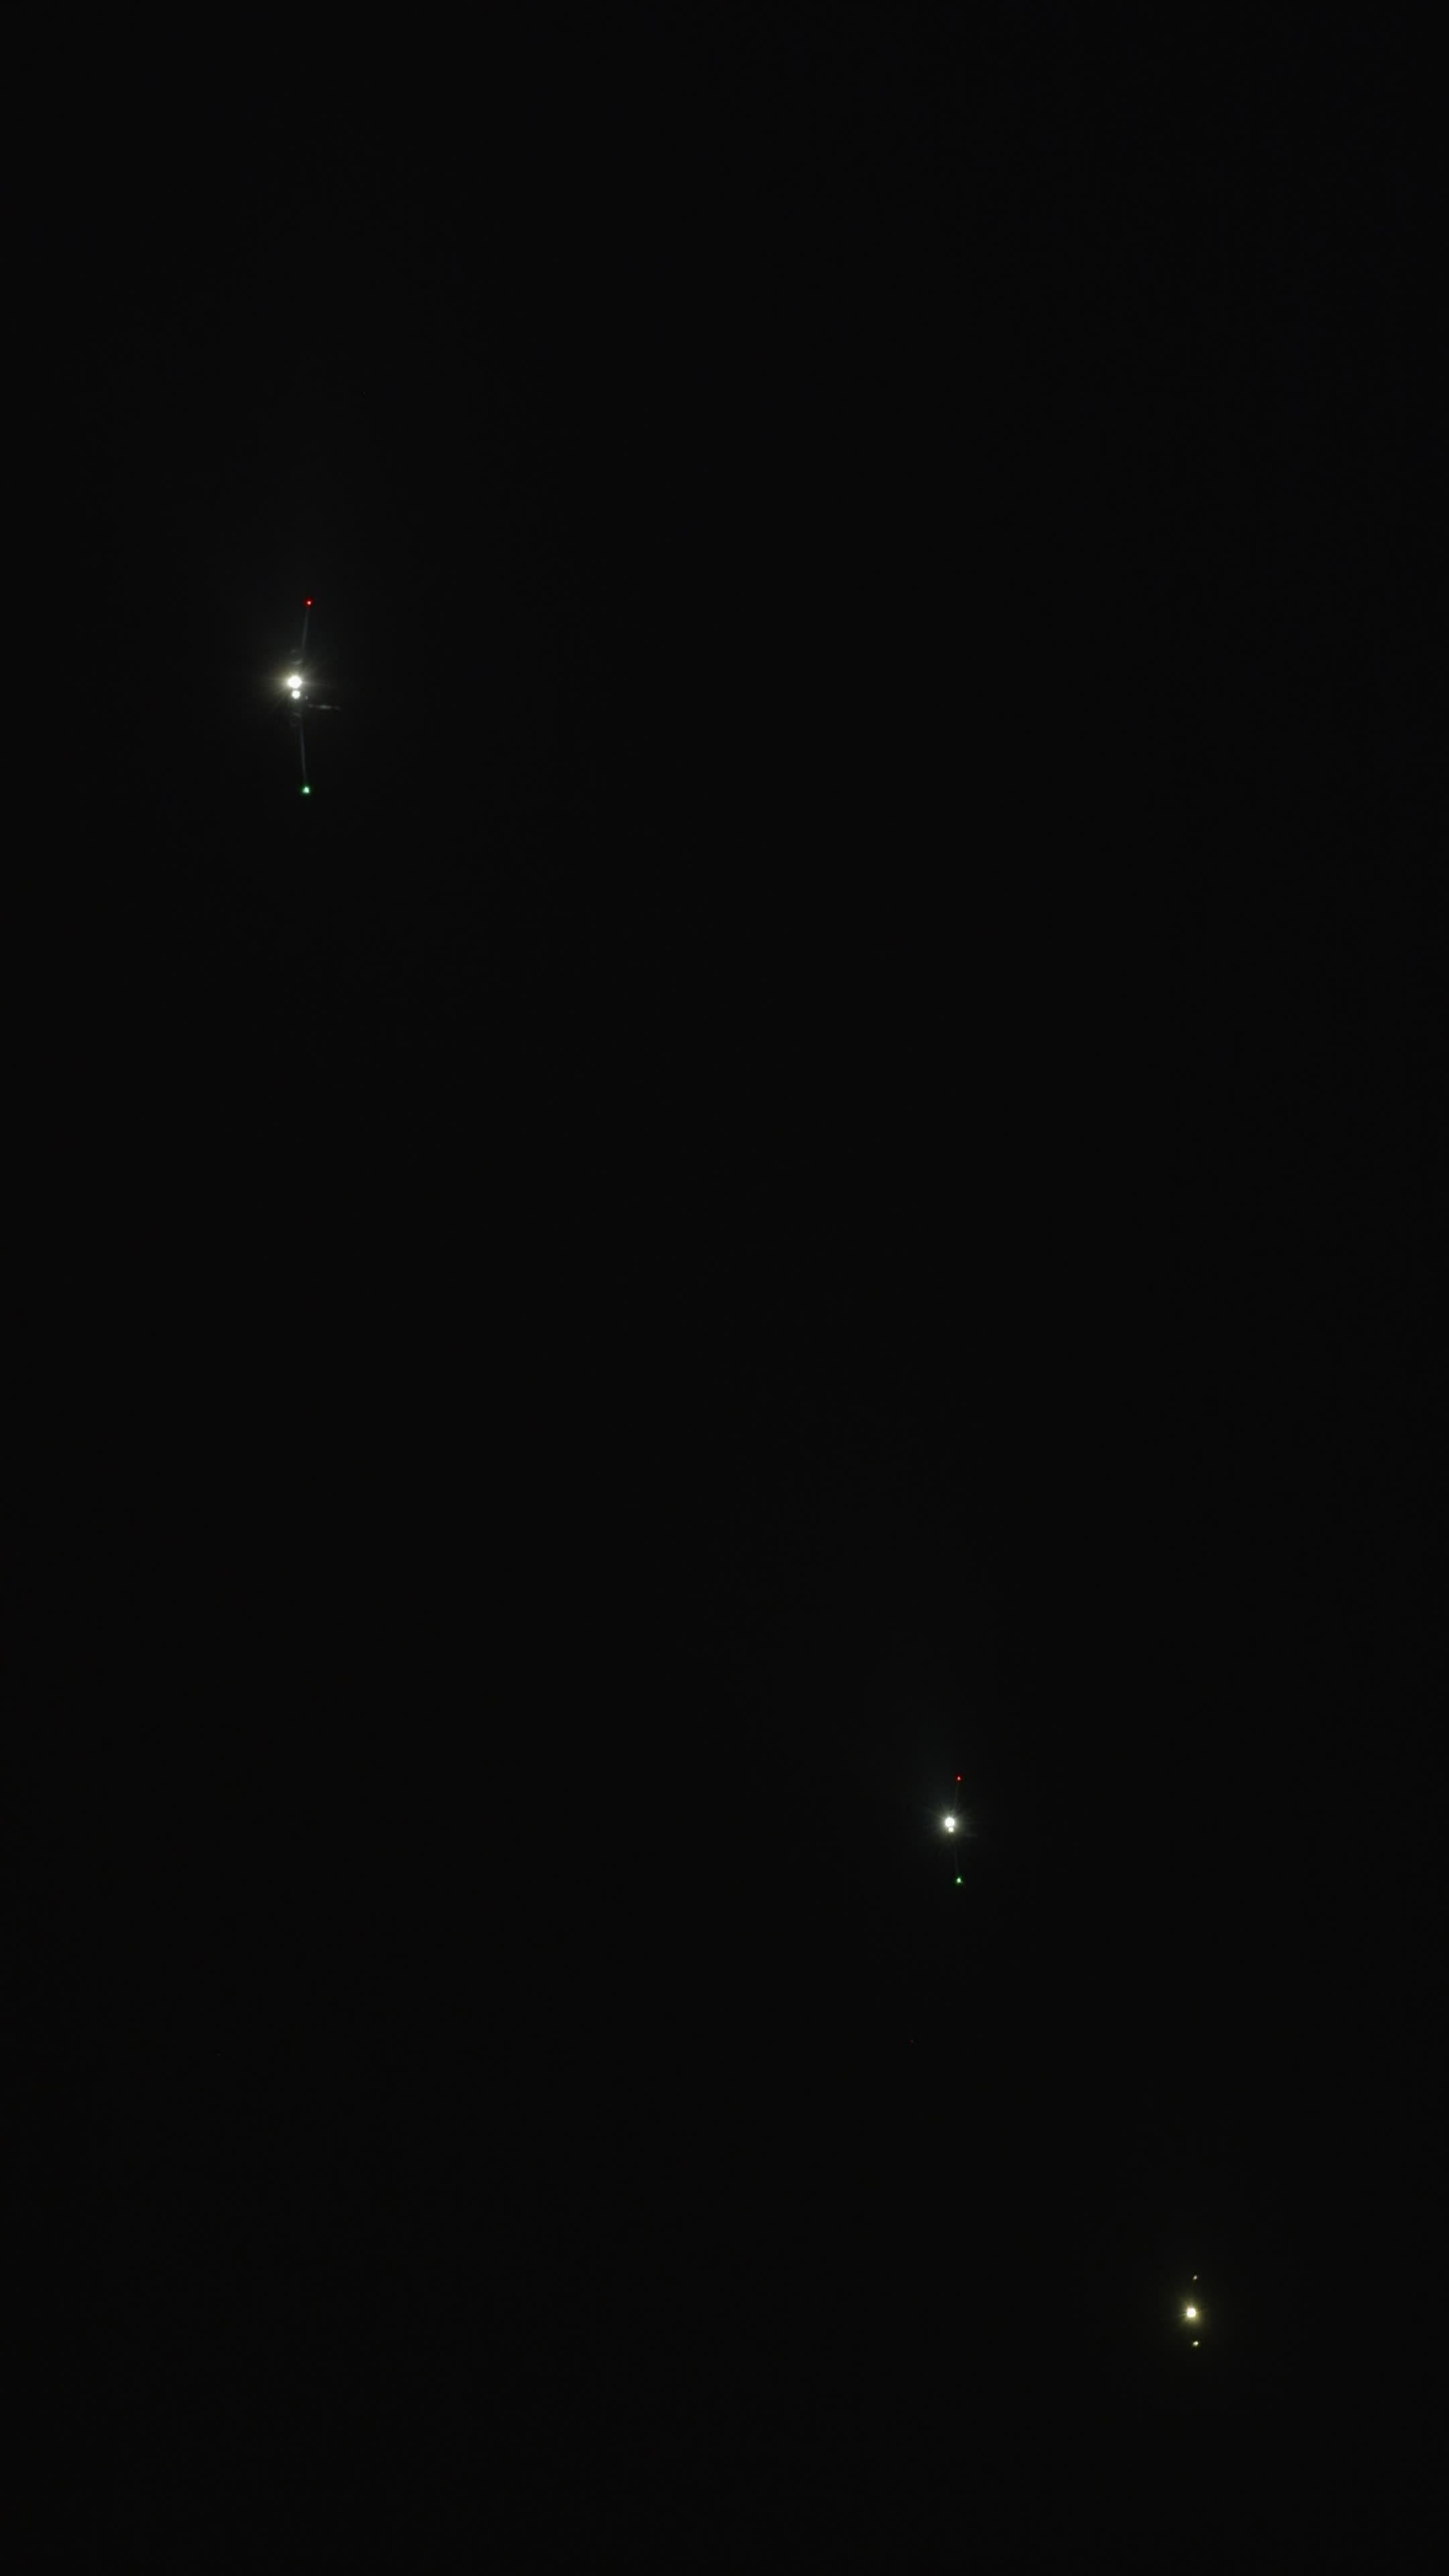Plane: (211, 504, 384, 876), (902, 1750, 1008, 1904), (1155, 2252, 1230, 2378)
